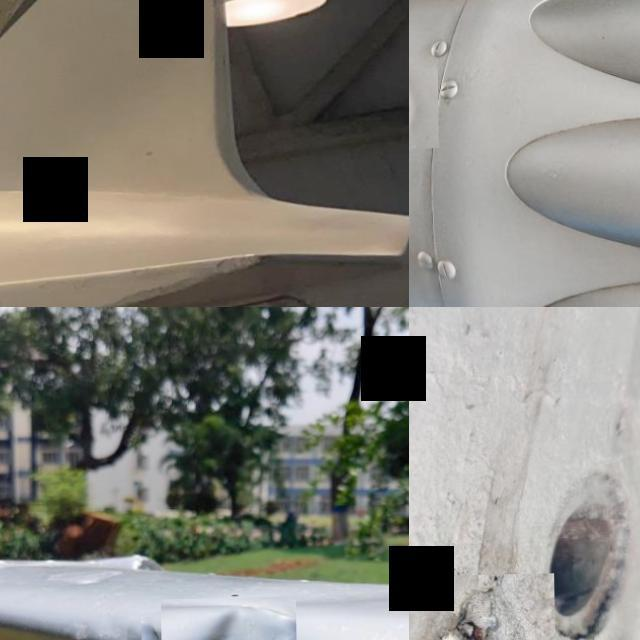Crack: (409, 575, 555, 640), (139, 617, 167, 640)
Dent: (159, 597, 296, 640), (409, 69, 437, 151)
